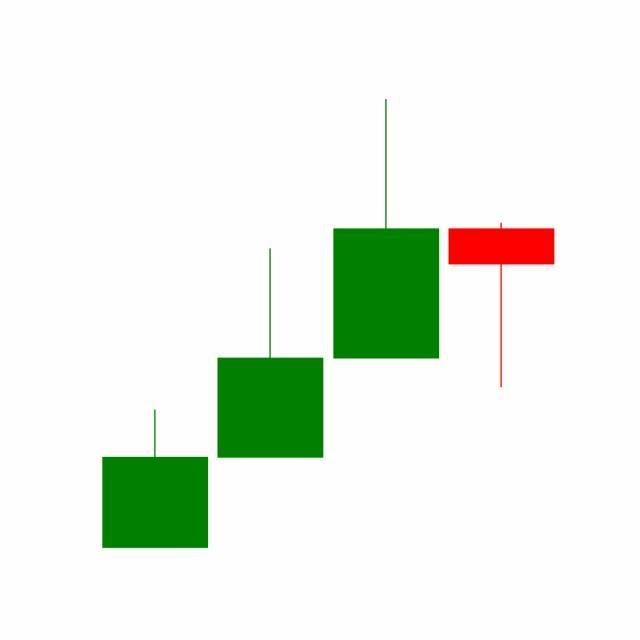Hammer: (444, 221, 560, 390)
